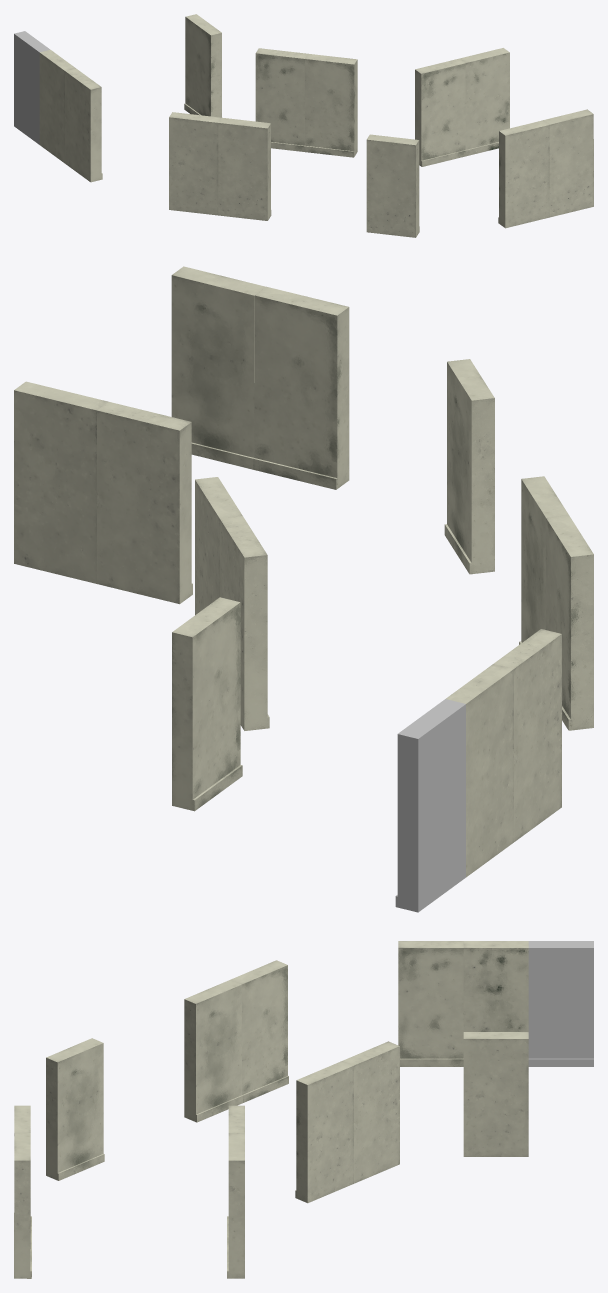
The model's file is Prep_Tubes.fbx.
3 renders of one model, top to bottom at view 1: azimuth 30°, elevation 25°; view 2: azimuth 150°, elevation 25°; view 3: azimuth 270°, elevation 25°, orthographic. The views are drawn at different scales.
Visible parts, largest first — view 1: Simple_Wall_Model__106_, Simple_Wall_Model__108_, Simple_Wall_Model__103_, Simple_Wall_Model__99_, Simple_Wall_Model__86_, Simple_Wall_Model__109_, Simple_Wall_Model__107_, Simple_Wall_Model__102_, Simple_Wall_Model__87_, Simple_Wall_Model__100_, Simple_Wall_Model__51_, Simple_Wall_Model__58_ (+1 smaller); view 2: Simple_Wall_Model__99_, Simple_Wall_Model__86_, Simple_Wall_Model__87_, Simple_Wall_Model__102_, Simple_Wall_Model__51_, Simple_Wall_Model__57_, Simple_Wall_Model__106_, Simple_Wall_Model__100_, Simple_Wall_Model__58_, Simple_Wall_Model__109_, Simple_Wall_Model__107_, Simple_Wall_Model__103_ (+1 smaller); view 3: Simple_Wall_Model__57_, Simple_Wall_Model__100_, Simple_Wall_Model__51_, Simple_Wall_Model__106_, Simple_Wall_Model__103_, Simple_Wall_Model__108_, Simple_Wall_Model__58_, Simple_Wall_Model__109_, Simple_Wall_Model__107_, Simple_Wall_Model__87_, Simple_Wall_Model__102_, Simple_Wall_Model__99_ (+1 smaller).
Boxes of the visible parts, x1,y1,x2,y2 form: Simple_Wall_Model__106_: [366, 134, 419, 237]; Simple_Wall_Model__108_: [304, 53, 357, 157]; Simple_Wall_Model__103_: [218, 117, 271, 220]; Simple_Wall_Model__99_: [498, 120, 549, 228]; Simple_Wall_Model__86_: [415, 58, 466, 166]; Simple_Wall_Model__109_: [169, 112, 221, 215]; Simple_Wall_Model__107_: [255, 48, 307, 151]; Simple_Wall_Model__102_: [543, 109, 593, 217]; Simple_Wall_Model__87_: [459, 48, 509, 156]; Simple_Wall_Model__100_: [65, 68, 102, 182]; Simple_Wall_Model__51_: [184, 14, 221, 117]; Simple_Wall_Model__58_: [39, 49, 75, 163]; Simple_Wall_Model__99_: [253, 286, 349, 489]; Simple_Wall_Model__86_: [97, 402, 192, 604]; Simple_Wall_Model__87_: [14, 381, 108, 583]; Simple_Wall_Model__102_: [171, 266, 265, 469]; Simple_Wall_Model__51_: [172, 597, 242, 811]; Simple_Wall_Model__57_: [395, 699, 465, 912]; Simple_Wall_Model__106_: [444, 359, 494, 574]; Simple_Wall_Model__100_: [493, 629, 561, 841]; Simple_Wall_Model__58_: [446, 664, 513, 877]; Simple_Wall_Model__109_: [546, 515, 593, 730]; Simple_Wall_Model__107_: [219, 516, 269, 730]; Simple_Wall_Model__103_: [519, 476, 568, 644]; Simple_Wall_Model__57_: [528, 941, 593, 1066]; Simple_Wall_Model__100_: [398, 941, 463, 1066]; Simple_Wall_Model__51_: [463, 1032, 528, 1156]; Simple_Wall_Model__106_: [46, 1038, 104, 1180]; Simple_Wall_Model__103_: [184, 979, 242, 1122]; Simple_Wall_Model__108_: [295, 1061, 353, 1203]; Simple_Wall_Model__58_: [463, 941, 528, 1031]; Simple_Wall_Model__109_: [231, 960, 288, 1102]; Simple_Wall_Model__107_: [342, 1041, 399, 1183]; Simple_Wall_Model__87_: [227, 1133, 244, 1278]; Simple_Wall_Model__102_: [14, 1133, 31, 1278]; Simple_Wall_Model__99_: [14, 1105, 31, 1243].
Size of what is drawn, in the model's own units: 1593 by 401 by 1779.
